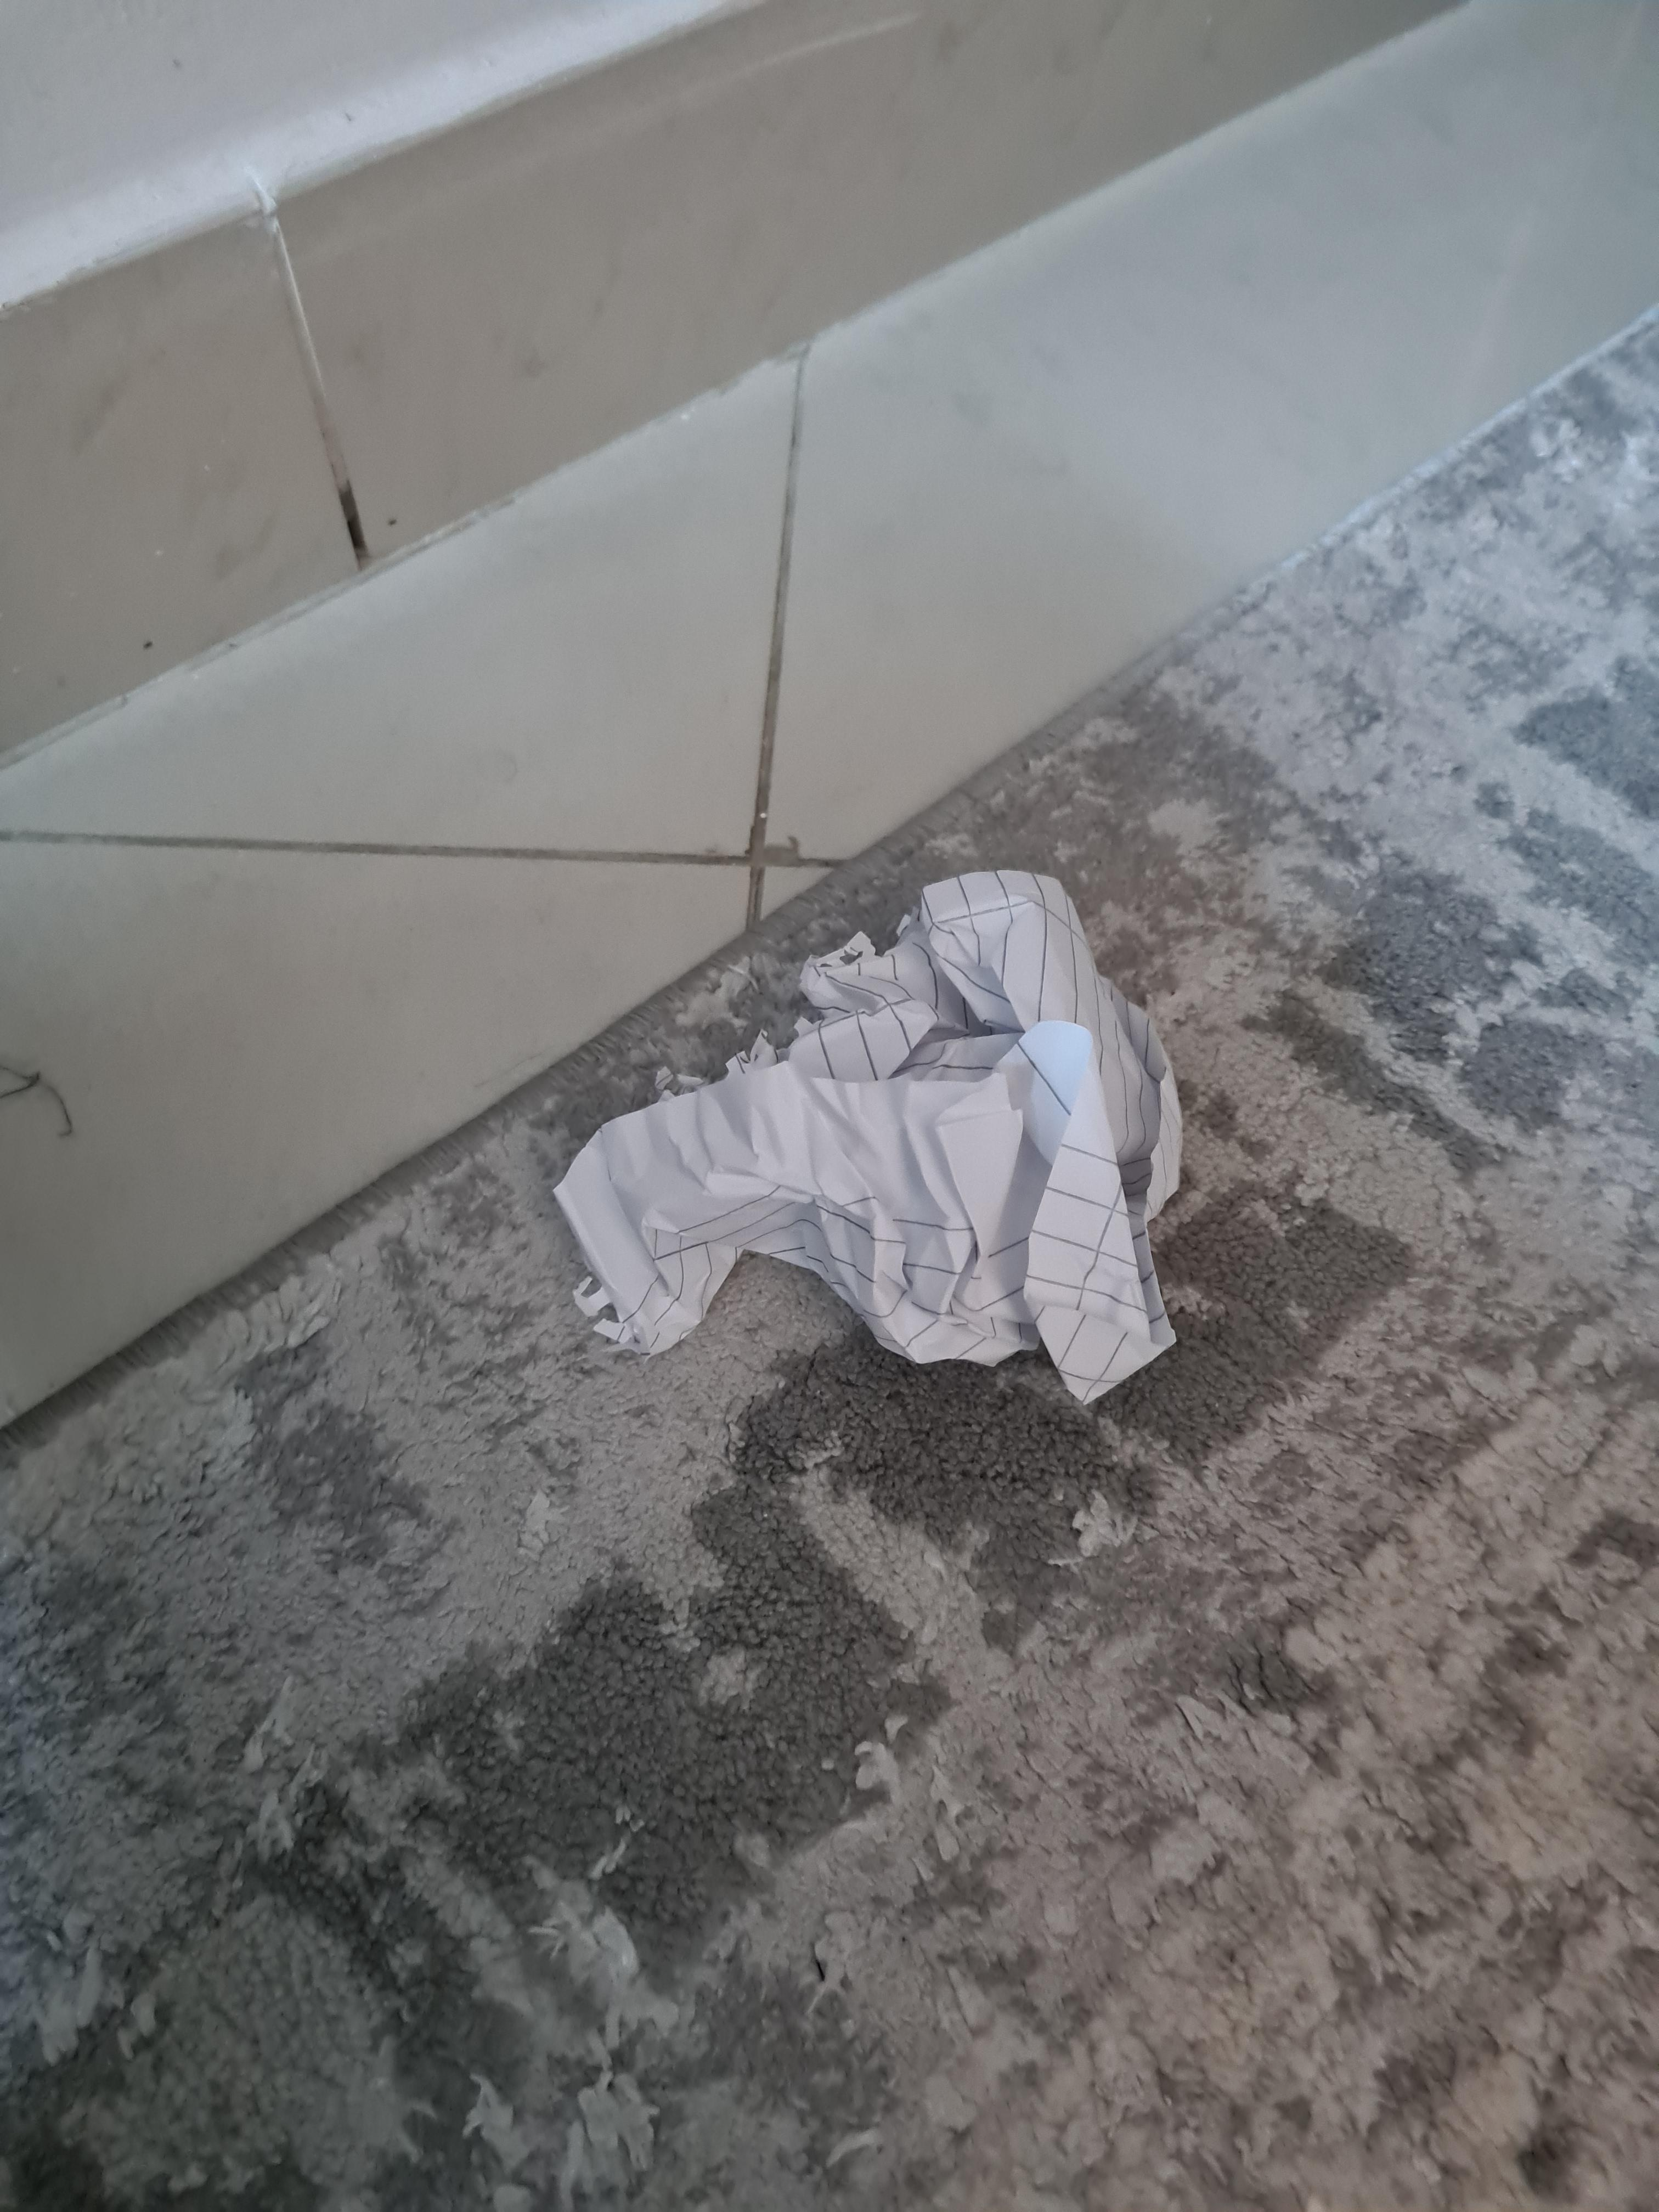Paper: (544, 857, 1215, 1384)
